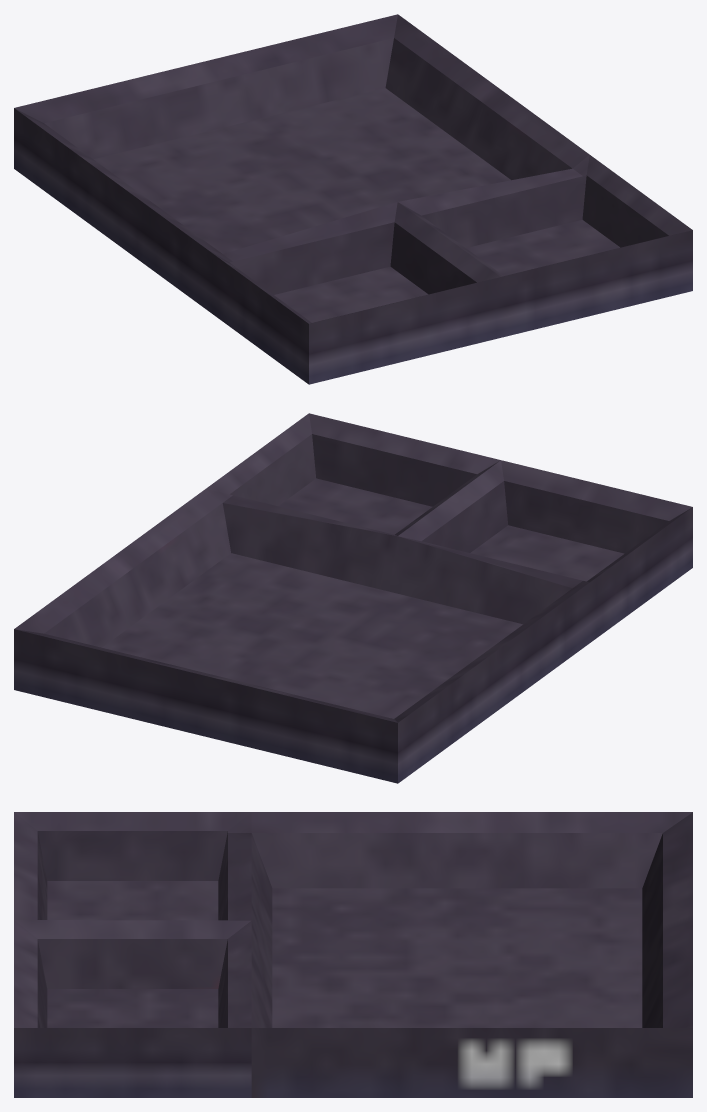
Rendered from MealPrep_Burnt 1.fbx.
3 renders of one model, top to bottom at view 1: azimuth 30°, elevation 25°; view 2: azimuth 150°, elevation 25°; view 3: azimuth 270°, elevation 25°, orthographic. The views are drawn at different scales.
Visible parts, largest first — view 1: MealPrep_Box_Burnt; view 2: MealPrep_Box_Burnt; view 3: MealPrep_Box_Burnt.
Part boxes in pixels (x1,y1,x2,y2): MealPrep_Box_Burnt: (14, 14, 692, 384); MealPrep_Box_Burnt: (14, 413, 692, 783); MealPrep_Box_Burnt: (14, 812, 692, 1097).
Size of the model in its own units: 93.76 by 14.19 by 125.
